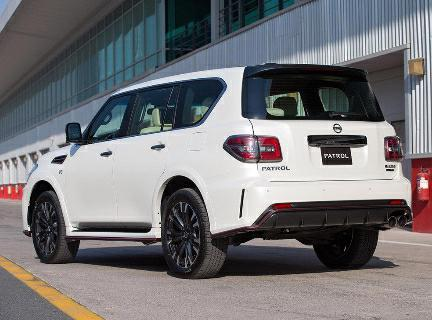日产-途乐: (15, 60, 421, 284)
